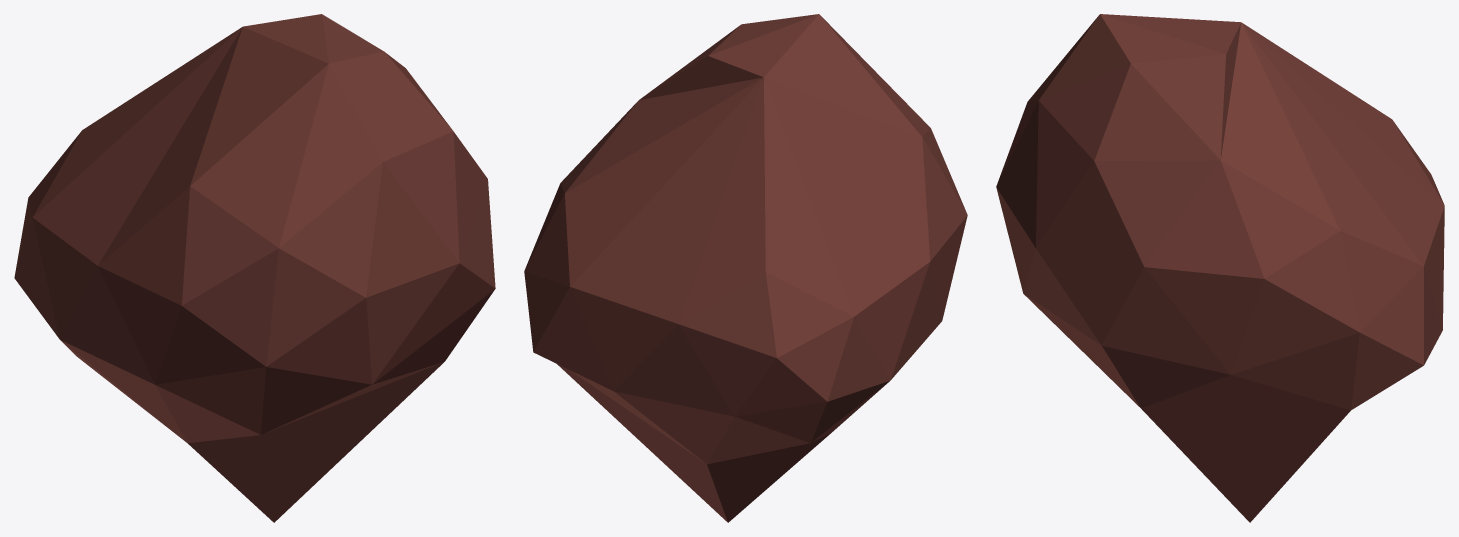
Rendered from Model_498_RH__Motor_trigeminal_nucleus_(5N).obj.
3 views of the same model, side by side, from view 1: azimuth 30°, elevation 25°; view 2: azimuth 150°, elevation 25°; view 3: azimuth 270°, elevation 25° (orthographic). The views are drawn at different scales.
Size of the model in its own units: 0.2112 by 0.2747 by 0.2244.
